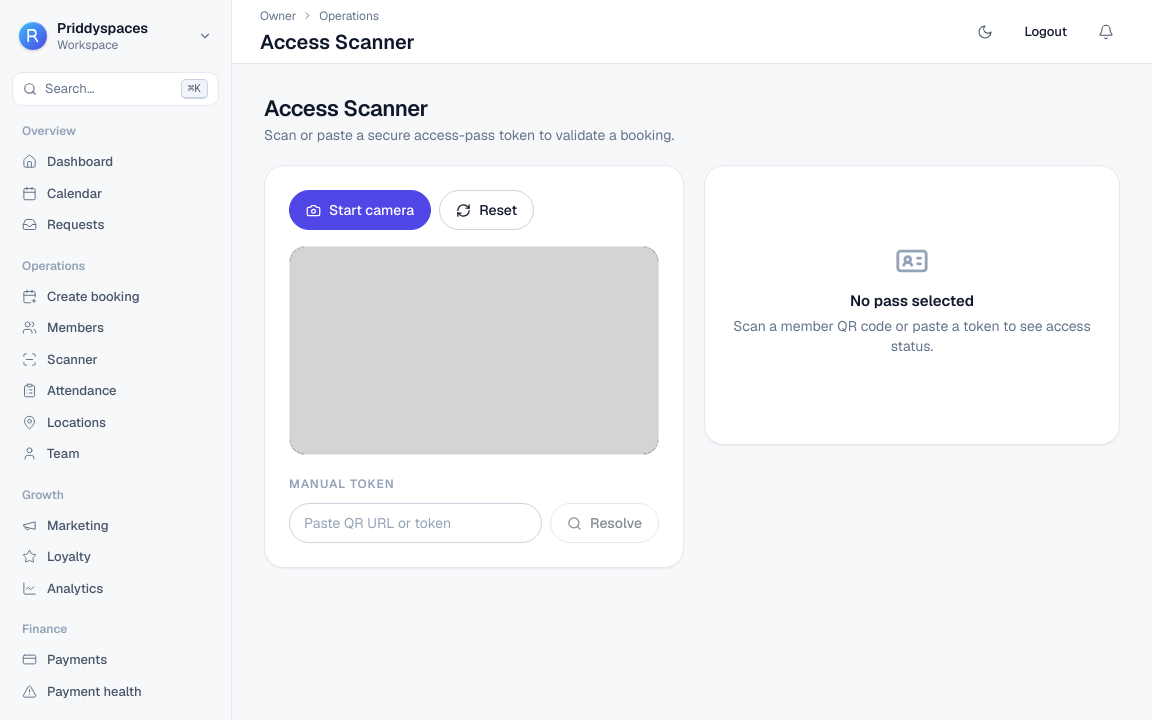
Test: scanner screen › resolves a token and submits check-in
Type "https://app.example.com/guest/access-pass#secure-token" into the field with placeholder "Paste QR URL or token".
click(416, 523); type("https://app.example.com/guest/access-pass#secure-token")  # box left=289, top=503, right=542, bottom=543
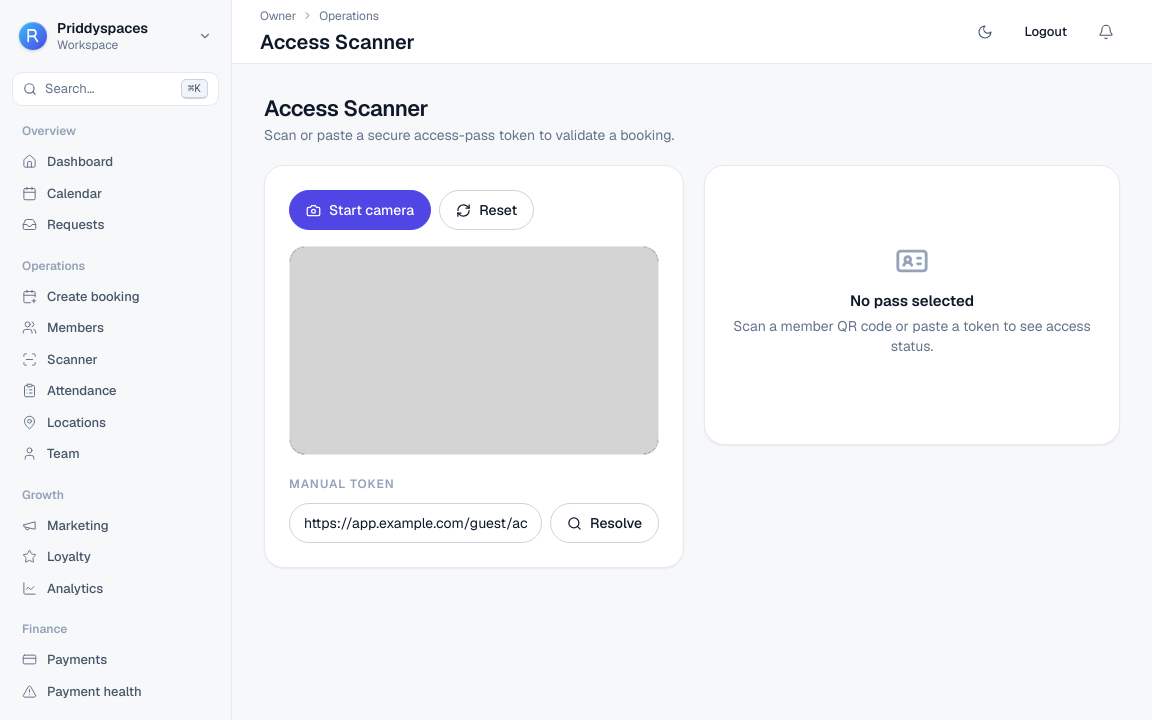
Click the button "Resolve".
click(605, 523)  # box left=550, top=503, right=659, bottom=543
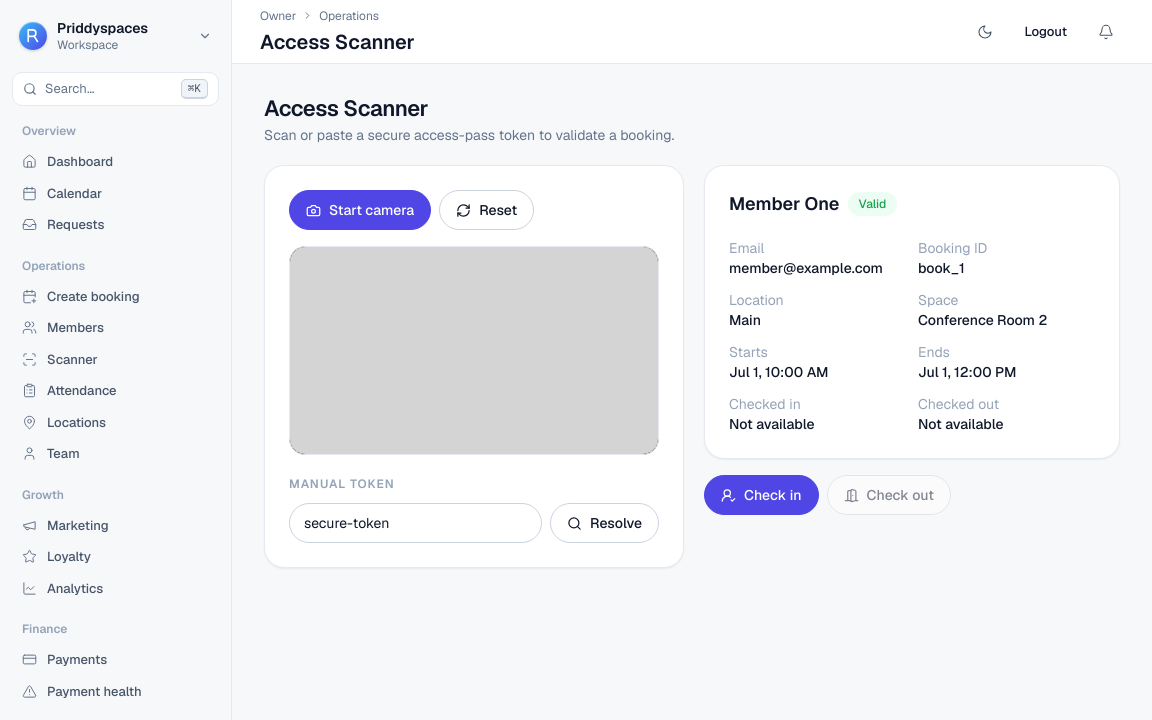
Expected: the heading "Member One" is shown, left=729, top=190, right=840, bottom=218
Click the button "Check in".
click(761, 495)  # box left=704, top=475, right=819, bottom=515
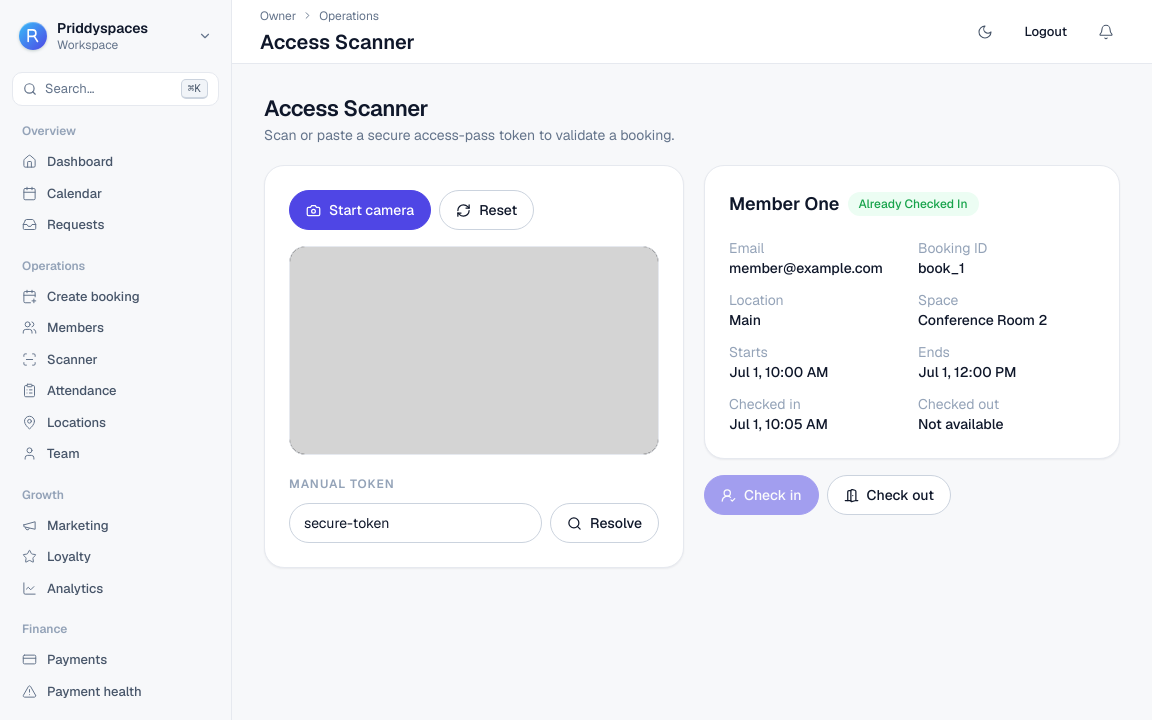
Expected: the text "Already Checked In" is shown, left=848, top=192, right=978, bottom=216
